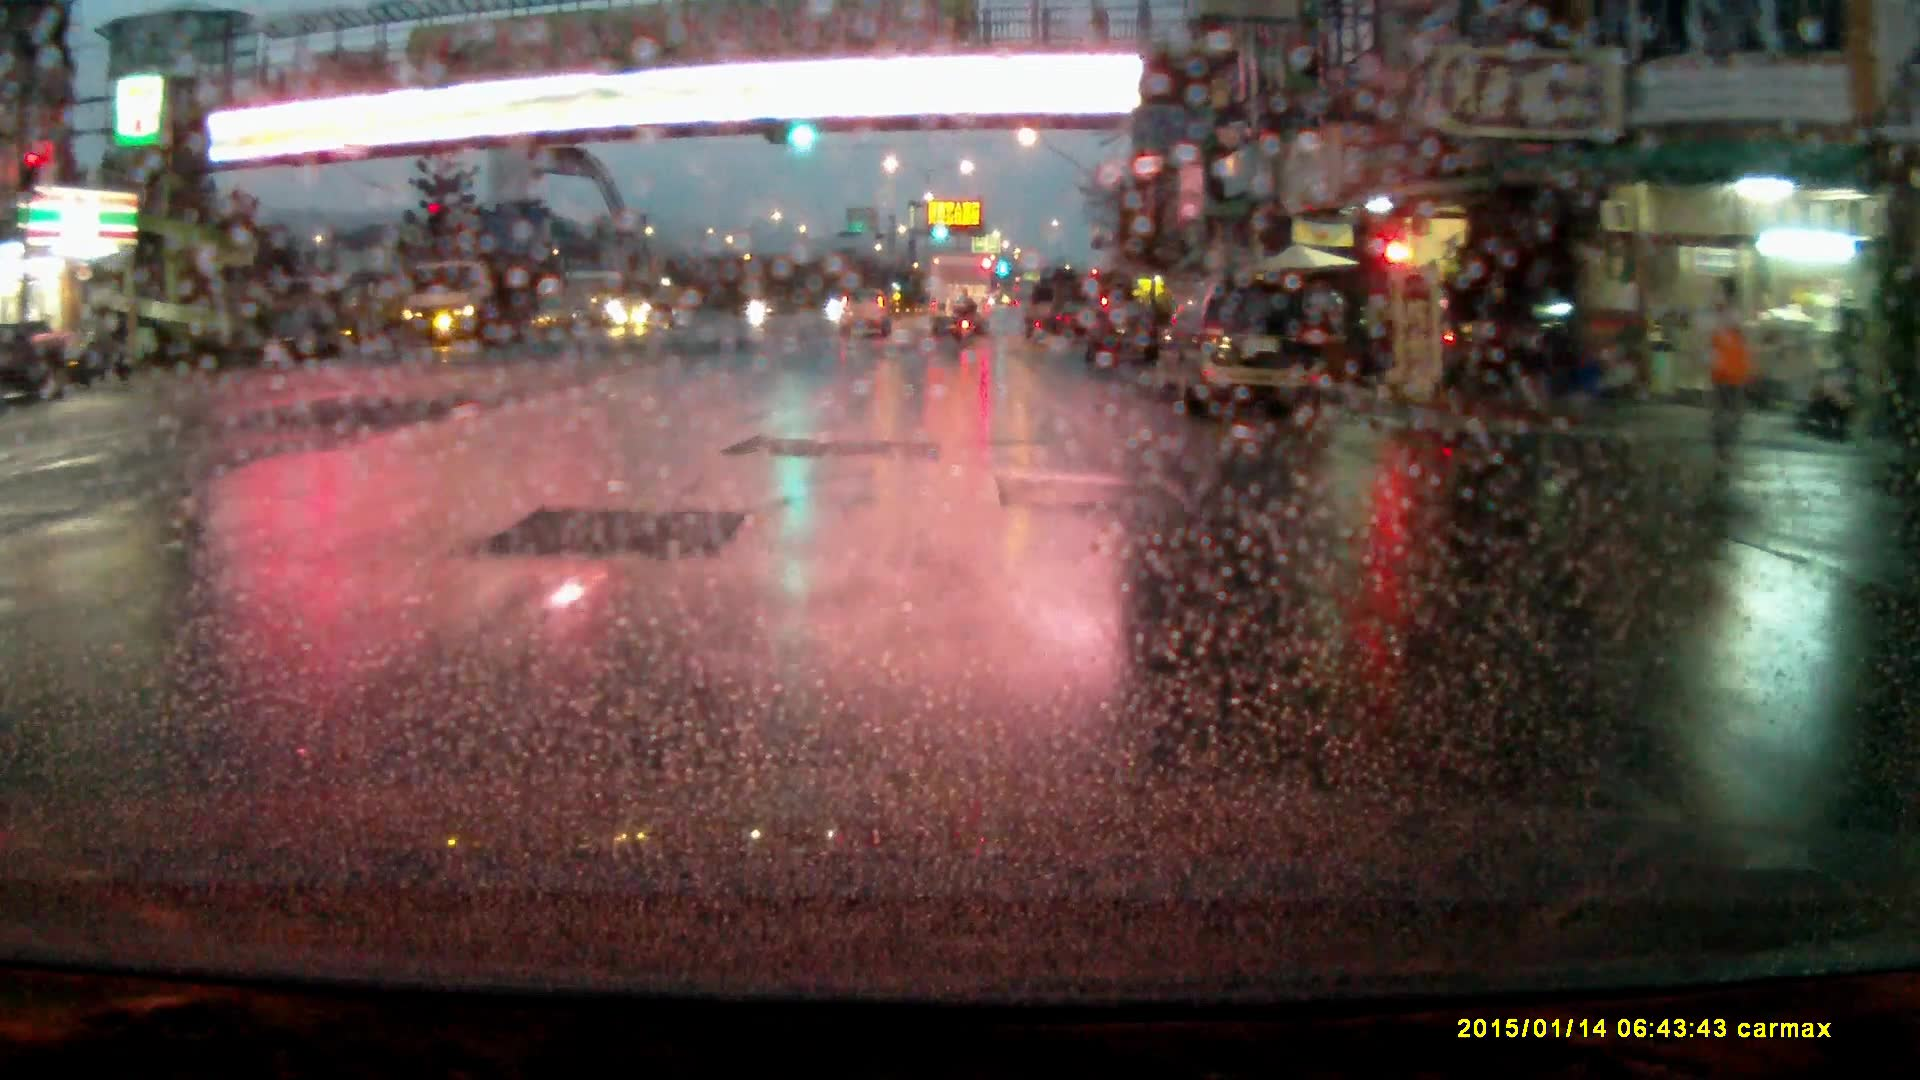pedestrian: (1688, 270, 1770, 480)
rider: (952, 292, 978, 352)
vehicle: (1158, 283, 1333, 416), (1449, 286, 1581, 393), (398, 259, 529, 351), (1, 321, 93, 410), (928, 258, 992, 335), (1086, 309, 1163, 368), (612, 282, 683, 336), (840, 294, 895, 343)
